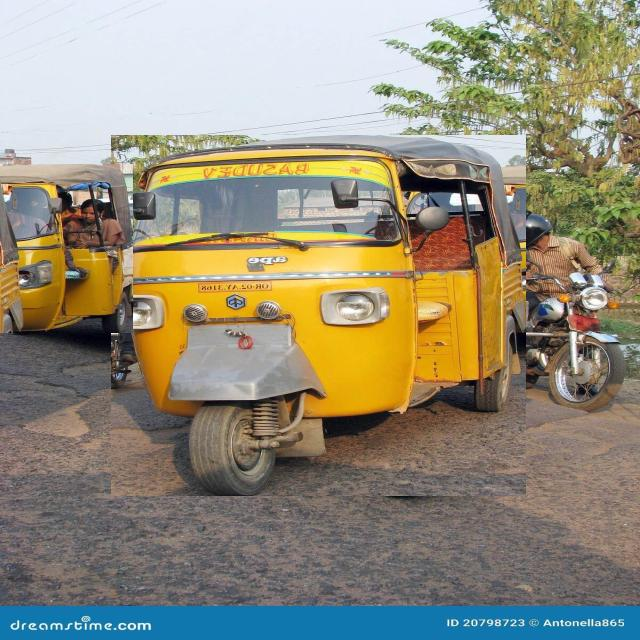autorickshaw: (111, 135, 526, 496), (0, 165, 133, 333)
motorcycle: (500, 214, 625, 410)
